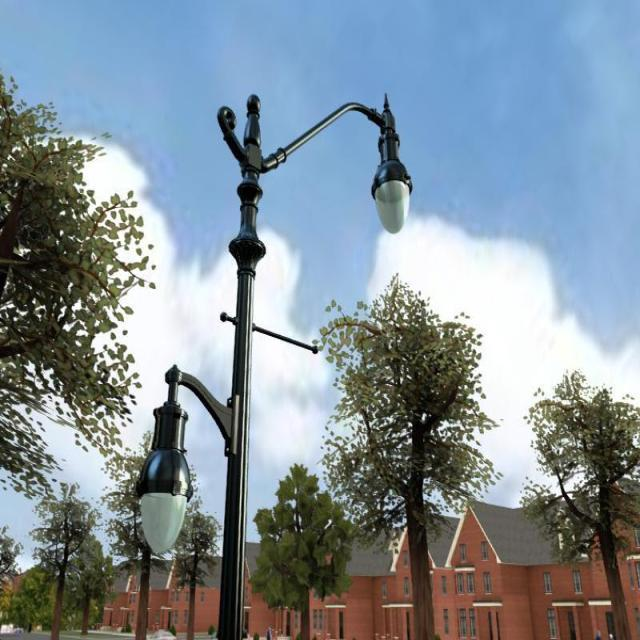off: (97, 345, 250, 598), (348, 88, 444, 254)
